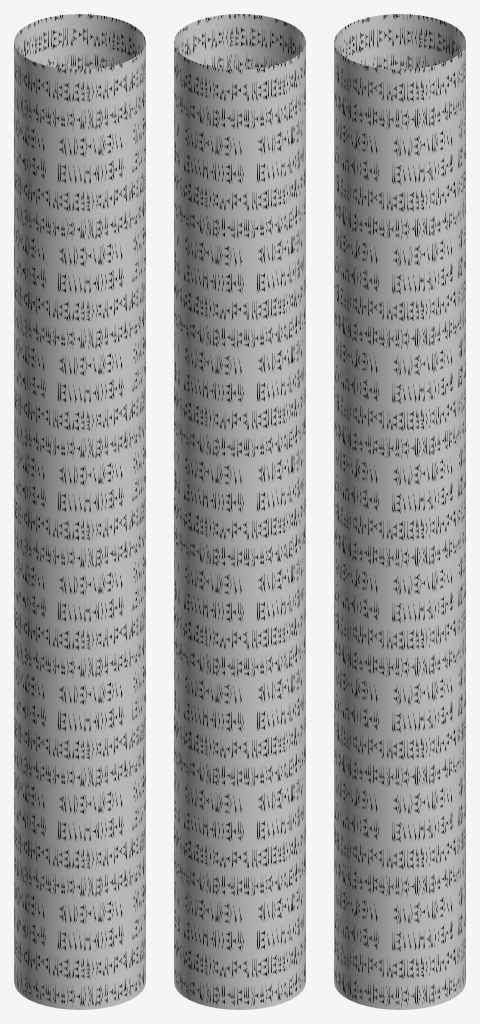
Rendered from crypticShaft.fbx.
3 views of the same model, side by side, from view 1: azimuth 30°, elevation 25°; view 2: azimuth 210°, elevation 25°; view 3: azimuth 330°, elevation 25° (orthographic).
Parts seen in each view (by area): view 1: Cylinder; view 2: Cylinder; view 3: Cylinder.
Part boxes in pixels (<box>): Cylinder: <box>14,14,145,1009</box>; Cylinder: <box>174,14,305,1009</box>; Cylinder: <box>334,14,465,1009</box>.
Bounding box in the file's own units: 6734 × 52998 × 6734.
